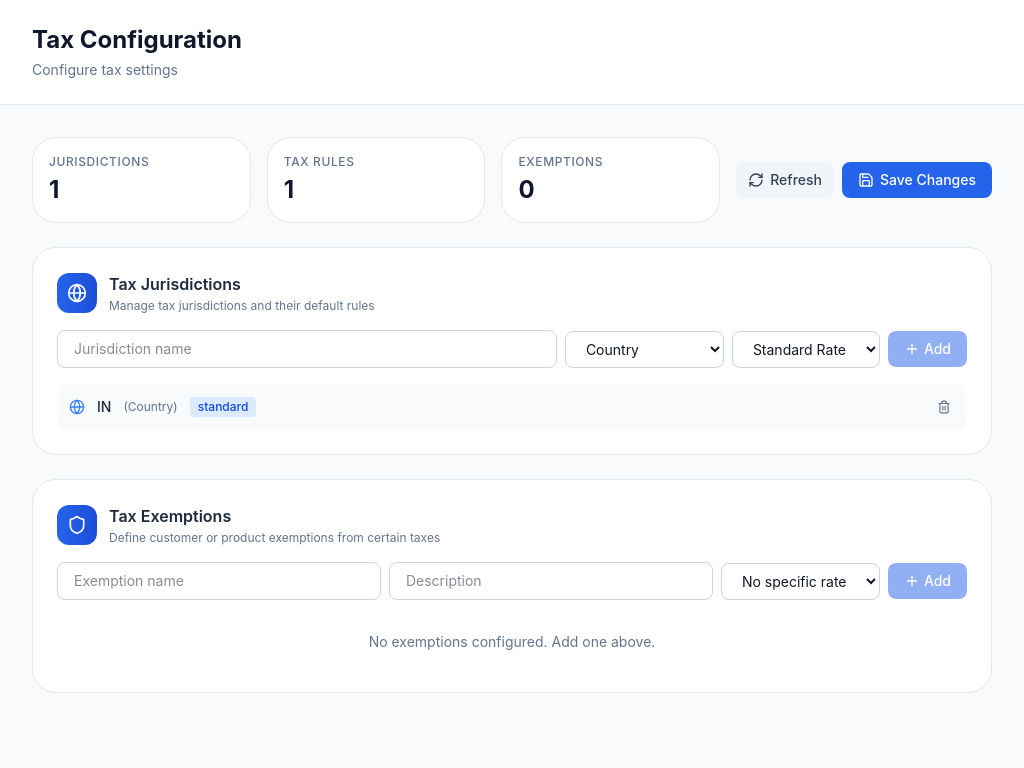
it: BUG-11.13 Tax Configuration › jurisdictions derived from tax rates (nothing saved yet) are unsaved, so Save is available
Expected: the heading "Tax Jurisdictions" is shown, [109,274,241,294]
Expected: the text "IN" is shown, [97,397,111,417]
Click the button "Save Changes" at (917, 180), box [842,162,992,198]
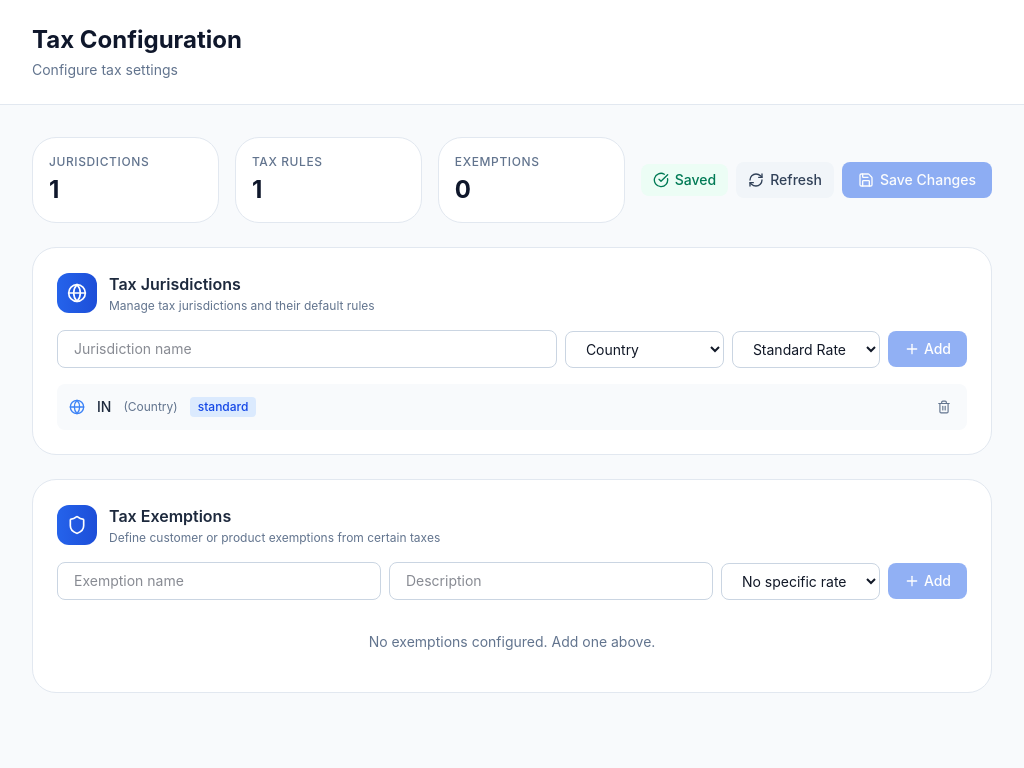
Expected: the button "Save Changes" is disabled, [842,162,992,198]
